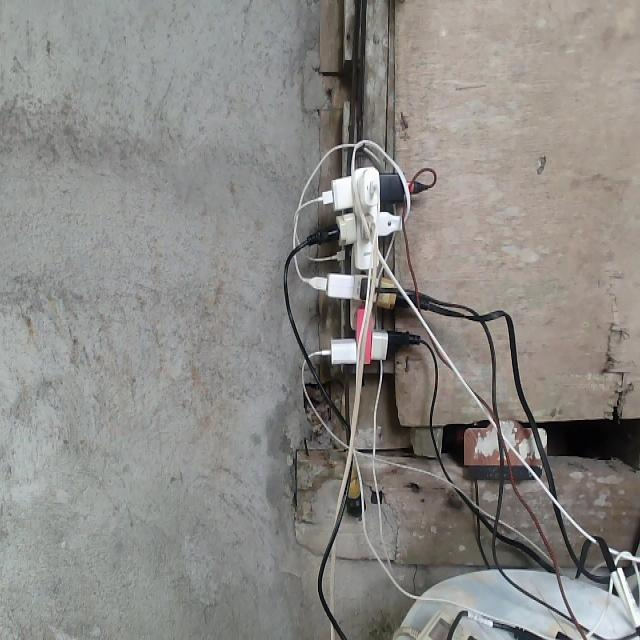-: (275, 136, 471, 385)
